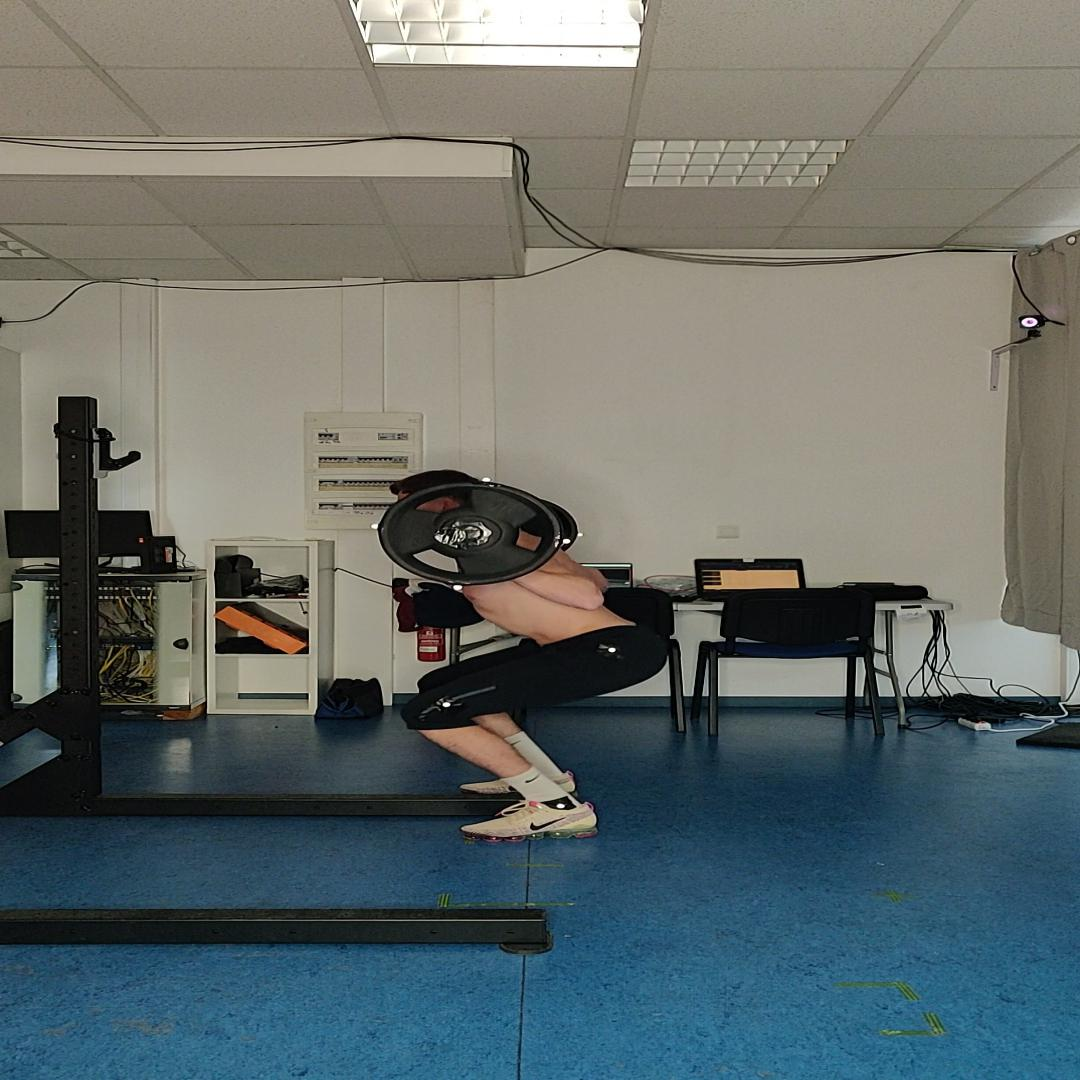Bar: (434, 526, 467, 545)
Barbell: (378, 481, 563, 586)
